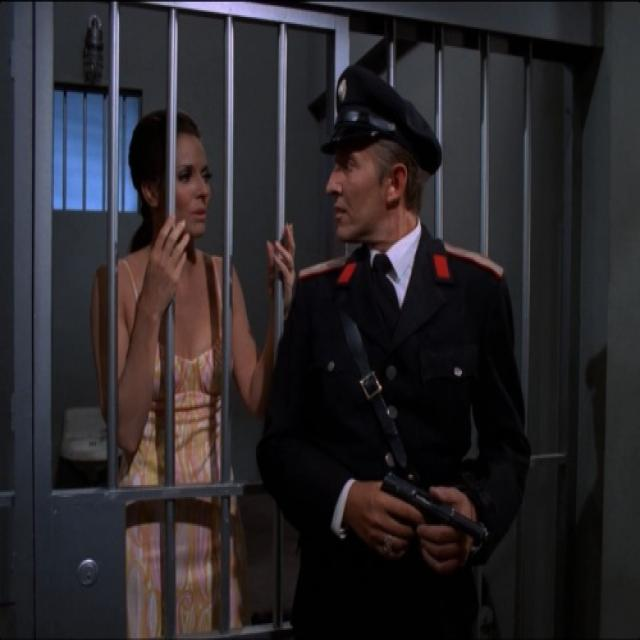weapons: (364, 448, 494, 580)
